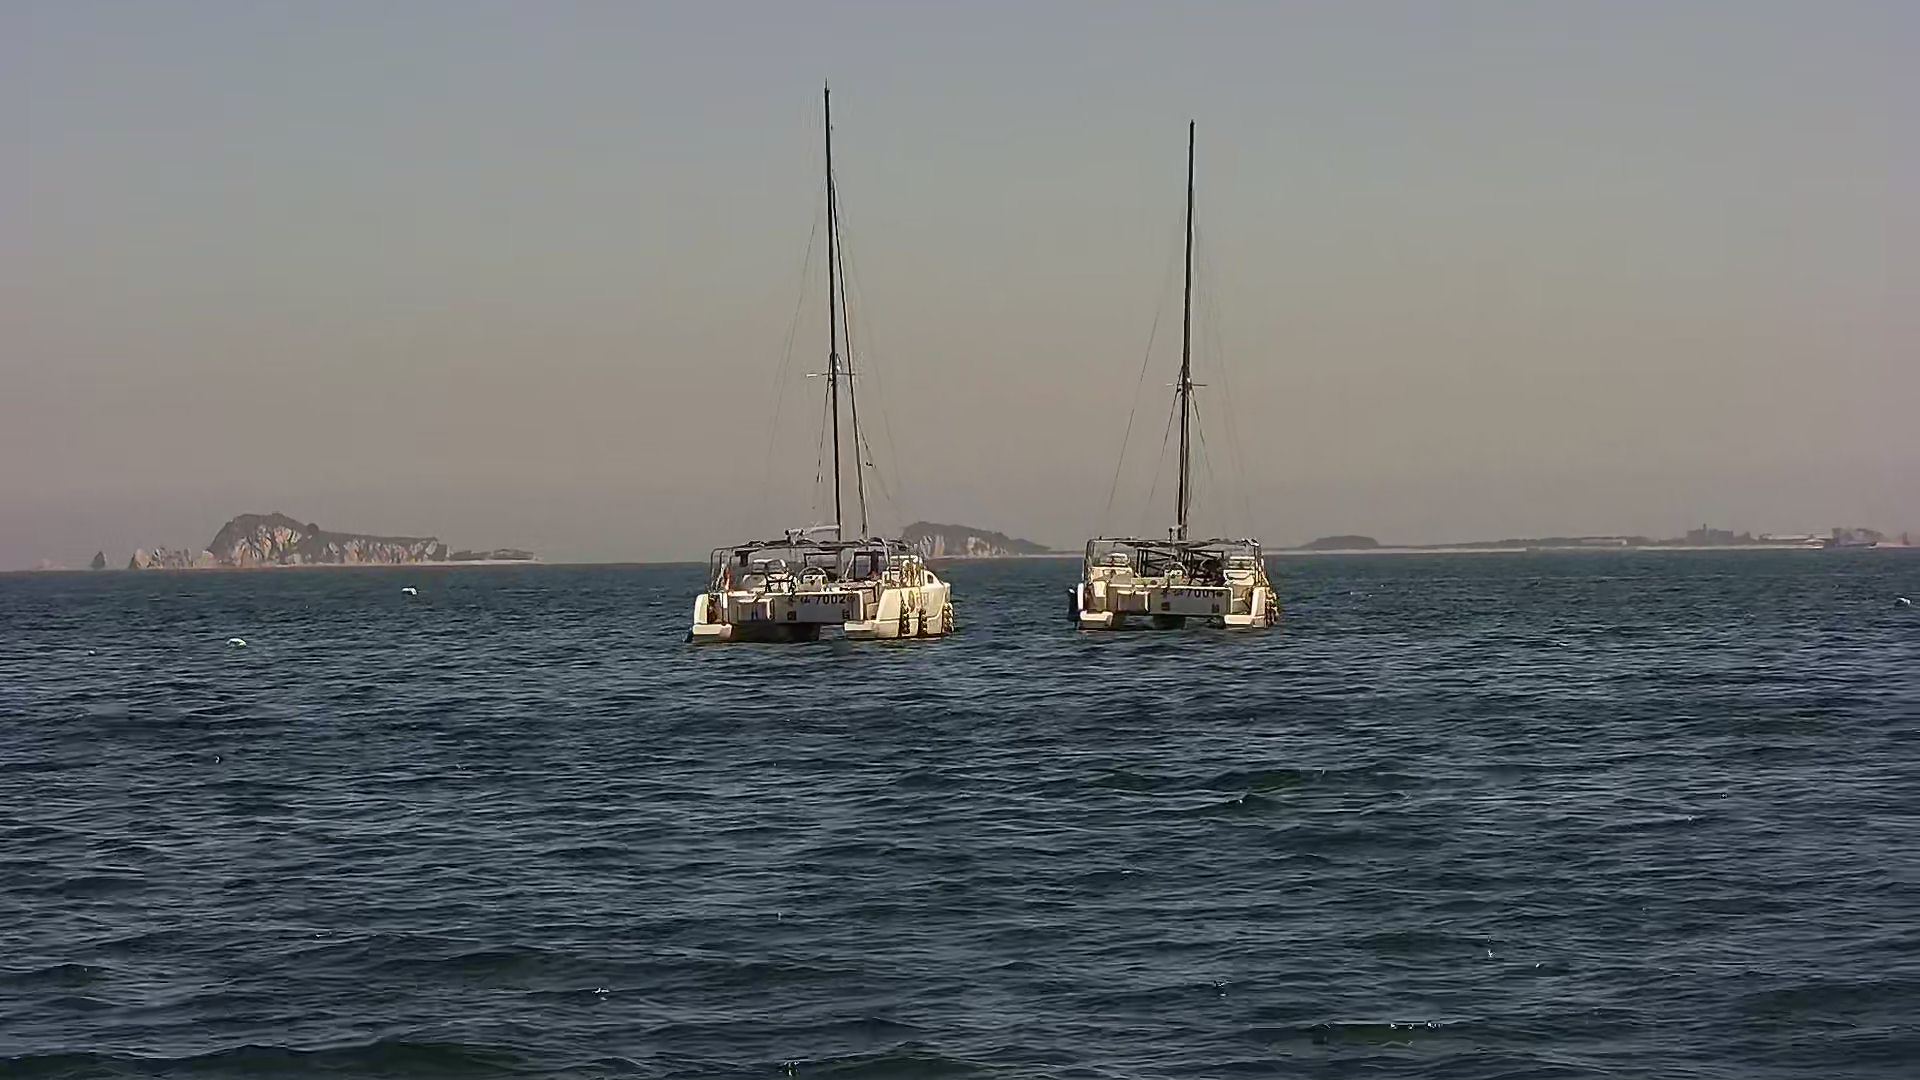boat: (688, 80, 963, 646), (1076, 109, 1276, 636)
rock: (123, 510, 541, 576), (891, 521, 1069, 560), (1288, 530, 1389, 553)
